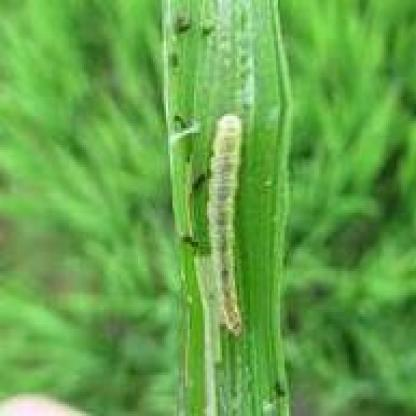leaf-folder: (196, 106, 262, 351)
